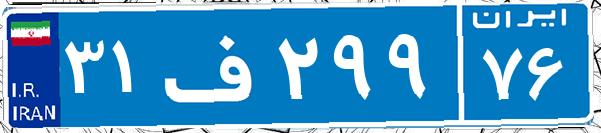1: (110, 28, 158, 105)
2: (273, 28, 330, 110)
3: (57, 26, 110, 107)
6: (525, 38, 570, 115)
7: (475, 38, 525, 113)
9: (385, 28, 445, 110), (330, 28, 385, 110)
ف: (158, 15, 273, 115)
